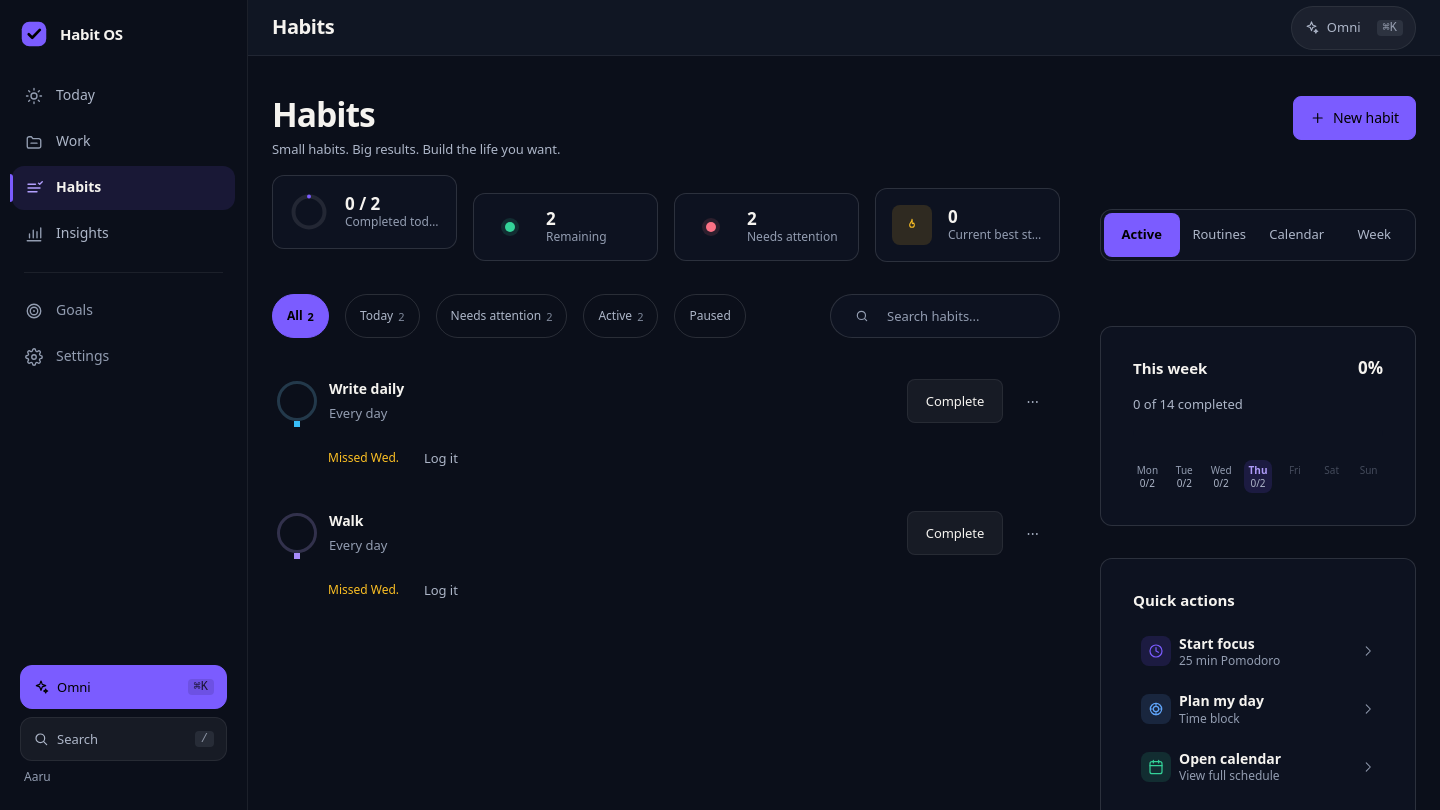
it: FINAL 2D — Icon-only control accessibility › Sheet close button exposes "Close" label when a sheet opens
Click the button named "More actions for Write daily" at (1033, 401), box [1011,379,1055,423]
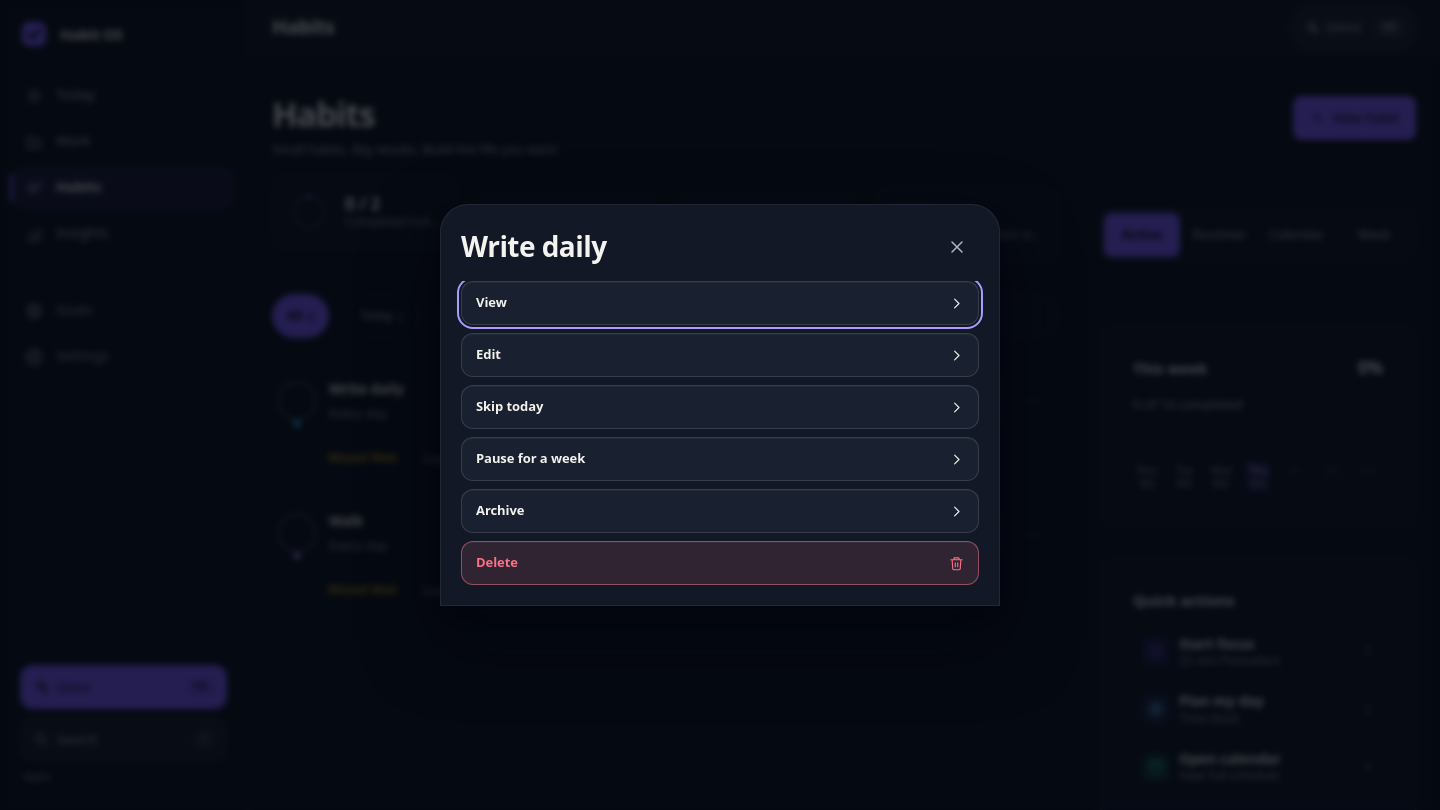
Expected: the button named "Close Write daily" is shown, [935,225,979,269]
